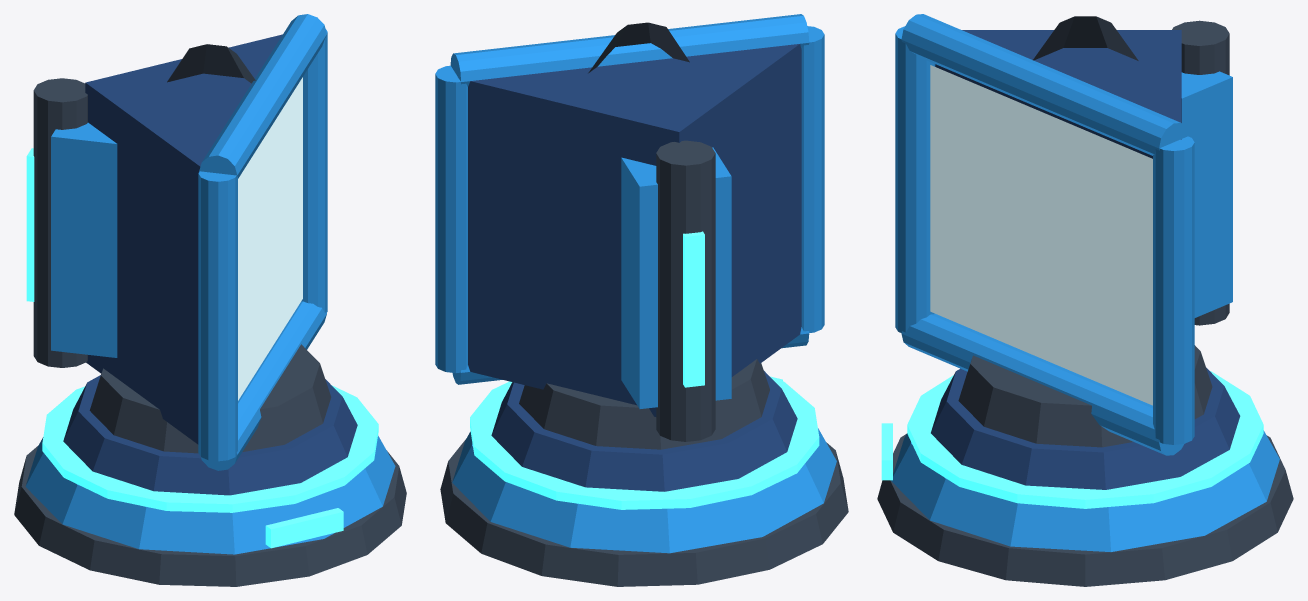
File: single_mirror_blue.glb
3 renders of one model, left to right at view 1: azimuth 30°, elevation 25°; view 2: azimuth 150°, elevation 25°; view 3: azimuth 270°, elevation 25°, orthographic. The views are drawn at different scales.
Visible parts, largest first — view 1: single_mirror_blue_Triangular_Prism_Body, single_mirror_blue_Optical_Frame, single_mirror_blue_Rear_Armor, single_mirror_blue_Base_Lower, single_mirror_blue_Mirror_Face, single_mirror_blue_Base_Armor, single_mirror_blue_Base_Deck, single_mirror_blue_Base_Light_Ring, single_mirror_blue_Prism_Cradle, single_mirror_blue_Rear_Spine, single_mirror_blue_Top_Cap, single_mirror_blue_Status_Light (+1 smaller); view 2: single_mirror_blue_Triangular_Prism_Body, single_mirror_blue_Optical_Frame, single_mirror_blue_Base_Armor, single_mirror_blue_Base_Lower, single_mirror_blue_Base_Deck, single_mirror_blue_Rear_Spine, single_mirror_blue_Rear_Armor, single_mirror_blue_Base_Light_Ring, single_mirror_blue_Prism_Cradle, single_mirror_blue_Rear_Energy_Slit, single_mirror_blue_Top_Cap; view 3: single_mirror_blue_Mirror_Face, single_mirror_blue_Optical_Frame, single_mirror_blue_Base_Armor, single_mirror_blue_Base_Lower, single_mirror_blue_Base_Deck, single_mirror_blue_Base_Light_Ring, single_mirror_blue_Rear_Armor, single_mirror_blue_Triangular_Prism_Body, single_mirror_blue_Prism_Cradle, single_mirror_blue_Rear_Spine, single_mirror_blue_Top_Cap, single_mirror_blue_Status_Light.
Boxes of the visible parts, left/top/right/bottom form: single_mirror_blue_Triangular_Prism_Body: left=85, top=34, right=282, bottom=444; single_mirror_blue_Optical_Frame: left=198, top=14, right=327, bottom=470; single_mirror_blue_Rear_Armor: left=51, top=122, right=117, bottom=357; single_mirror_blue_Base_Lower: left=14, top=446, right=406, bottom=586; single_mirror_blue_Mirror_Face: left=238, top=77, right=302, bottom=400; single_mirror_blue_Base_Armor: left=25, top=435, right=395, bottom=554; single_mirror_blue_Base_Deck: left=63, top=375, right=357, bottom=495; single_mirror_blue_Base_Light_Ring: left=42, top=385, right=378, bottom=512; single_mirror_blue_Prism_Cradle: left=89, top=344, right=331, bottom=453; single_mirror_blue_Rear_Spine: left=33, top=78, right=87, bottom=367; single_mirror_blue_Top_Cap: left=167, top=44, right=255, bottom=83; single_mirror_blue_Status_Light: left=265, top=508, right=343, bottom=548; single_mirror_blue_Triangular_Prism_Body: left=458, top=44, right=801, bottom=416; single_mirror_blue_Optical_Frame: left=435, top=14, right=824, bottom=384; single_mirror_blue_Base_Armor: left=452, top=428, right=836, bottom=553; single_mirror_blue_Base_Lower: left=440, top=439, right=848, bottom=586; single_mirror_blue_Base_Deck: left=491, top=371, right=797, bottom=491; single_mirror_blue_Rear_Spine: left=656, top=140, right=715, bottom=441; single_mirror_blue_Rear_Armor: left=621, top=147, right=731, bottom=408; single_mirror_blue_Base_Light_Ring: left=470, top=376, right=819, bottom=509; single_mirror_blue_Prism_Cradle: left=519, top=359, right=769, bottom=449; single_mirror_blue_Rear_Energy_Slit: left=683, top=231, right=704, bottom=387; single_mirror_blue_Top_Cap: left=588, top=22, right=689, bottom=73; single_mirror_blue_Mirror_Face: left=930, top=65, right=1152, bottom=405; single_mirror_blue_Optical_Frame: left=895, top=14, right=1194, bottom=455; single_mirror_blue_Base_Armor: left=891, top=430, right=1279, bottom=551; single_mirror_blue_Base_Lower: left=877, top=434, right=1293, bottom=586; single_mirror_blue_Base_Deck: left=931, top=367, right=1240, bottom=489; single_mirror_blue_Base_Light_Ring: left=907, top=371, right=1263, bottom=508; single_mirror_blue_Rear_Armor: left=1181, top=71, right=1232, bottom=317; single_mirror_blue_Triangular_Prism_Body: left=935, top=30, right=1181, bottom=158; single_mirror_blue_Prism_Cradle: left=958, top=345, right=1212, bottom=447; single_mirror_blue_Rear_Spine: left=1172, top=20, right=1229, bottom=325; single_mirror_blue_Top_Cap: left=1033, top=16, right=1138, bottom=60; single_mirror_blue_Status_Light: left=881, top=423, right=892, bottom=480.
Size of the model in its own units: 1.04 by 1.3 by 1.04.
